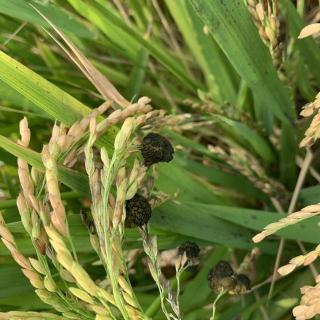Gosong-Palsu: (206, 259, 252, 296), (138, 132, 175, 166), (122, 193, 153, 229), (175, 239, 203, 263)
